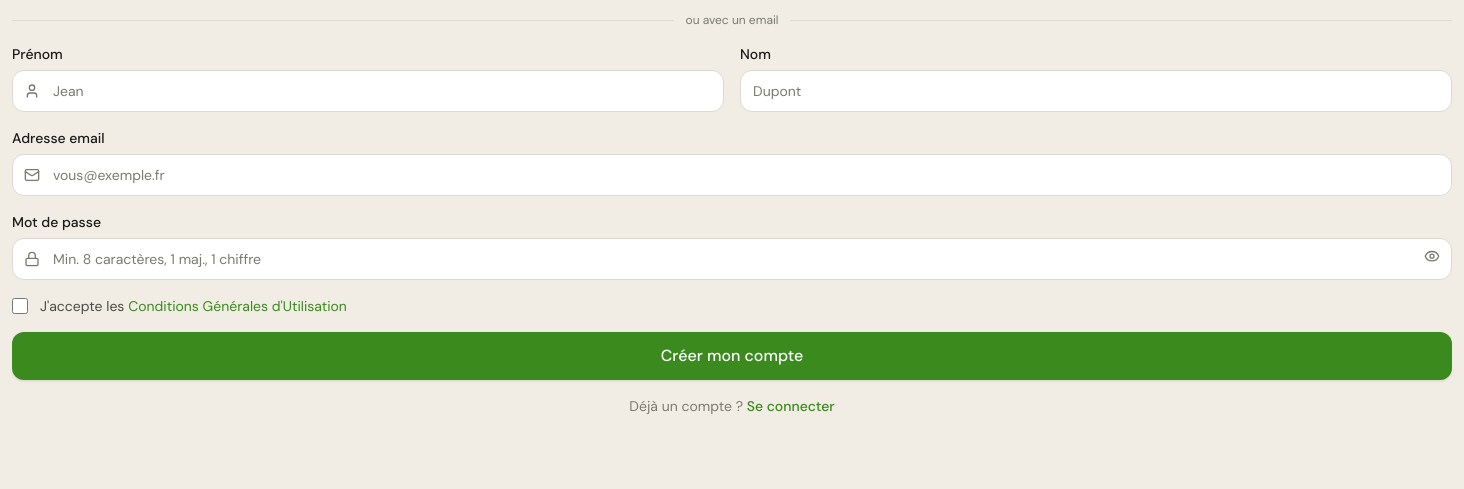
it: RegisterForm — validation › affiche une erreur si le mot de passe est trop court
In the field labelled "Adresse email": x=732, y=175 x1=12 y1=154 x2=1452 y2=196, type "nouveau@test.com"
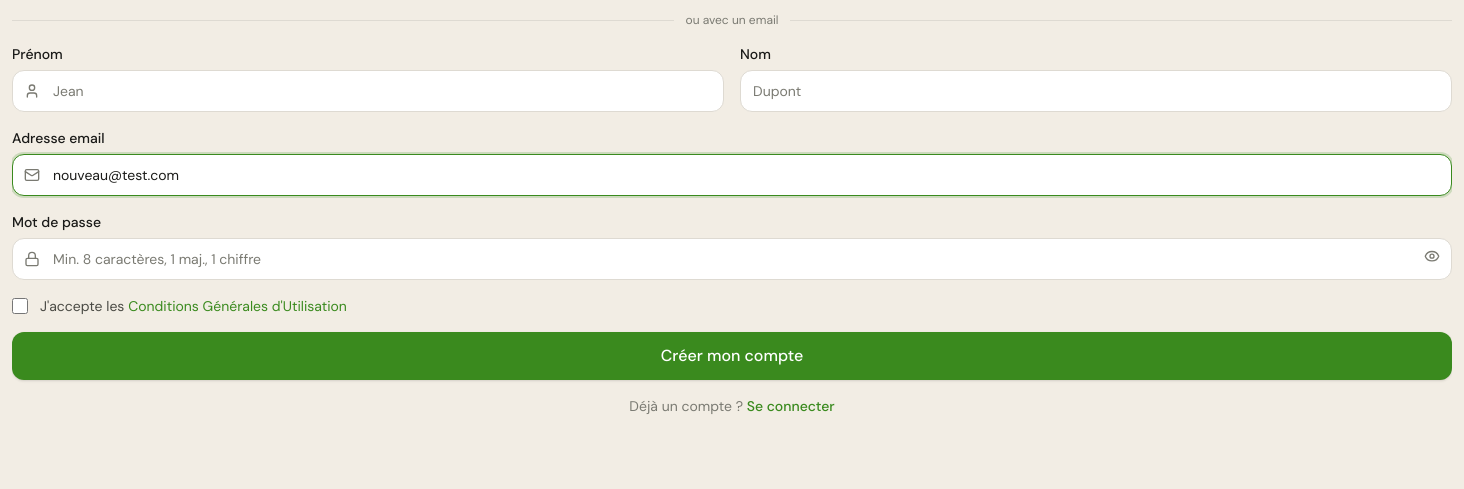
In the password field labelled "Mot de passe": x=732, y=259 x1=12 y1=238 x2=1452 y2=280, type "Ab1"
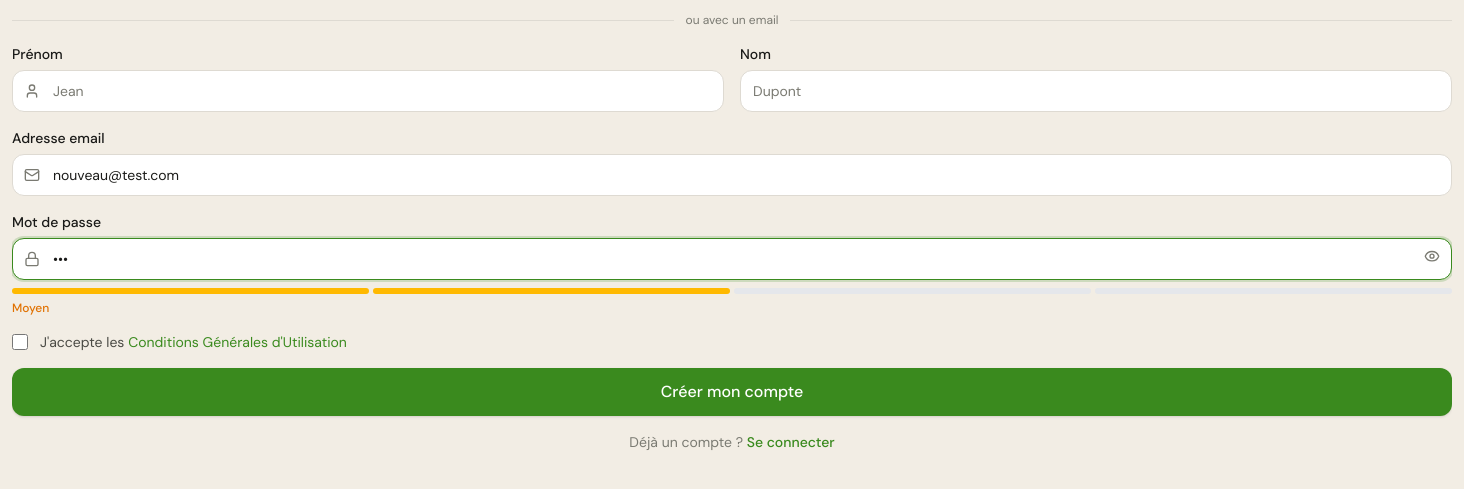
Click the checkbox: x=20, y=342 x1=12 y1=334 x2=28 y2=350
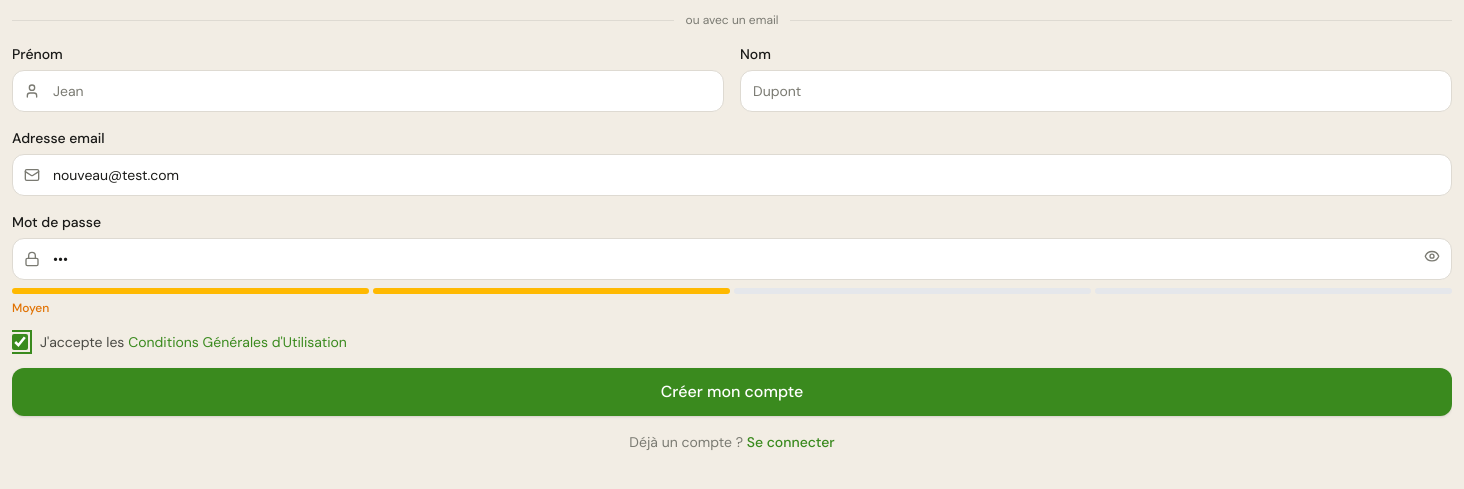
Click the button "Créer mon compte": x=732, y=392 x1=12 y1=368 x2=1452 y2=416
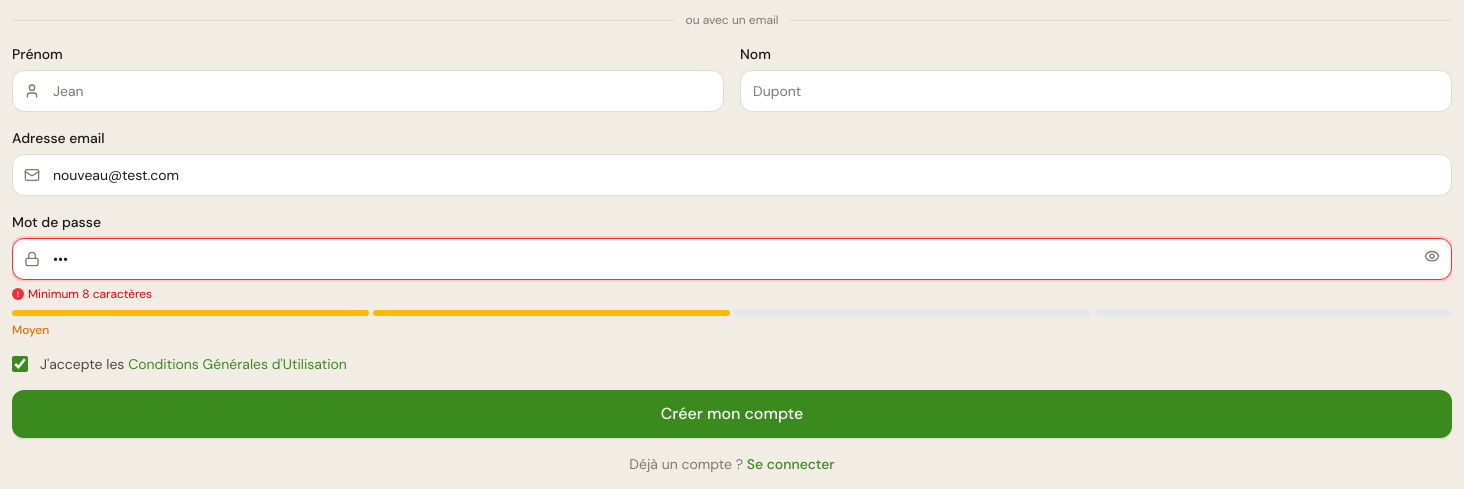
Now the text "Minimum 8 caractères" is shown, box x1=28 y1=286 x2=152 y2=302
